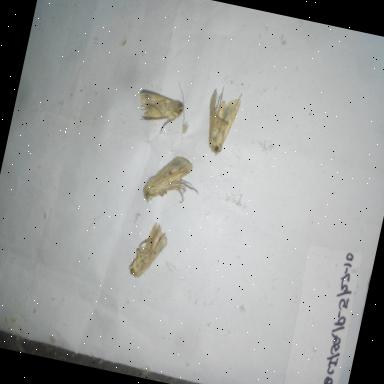abw: (136, 146, 207, 218), (124, 73, 197, 141), (195, 77, 248, 164), (121, 214, 176, 286)
